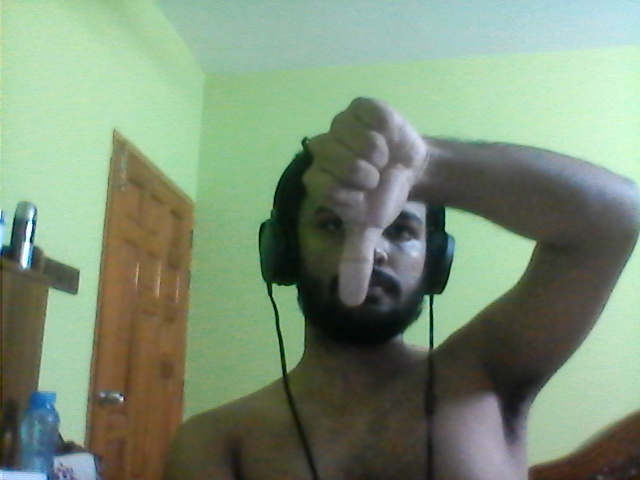No: (284, 87, 435, 311)
